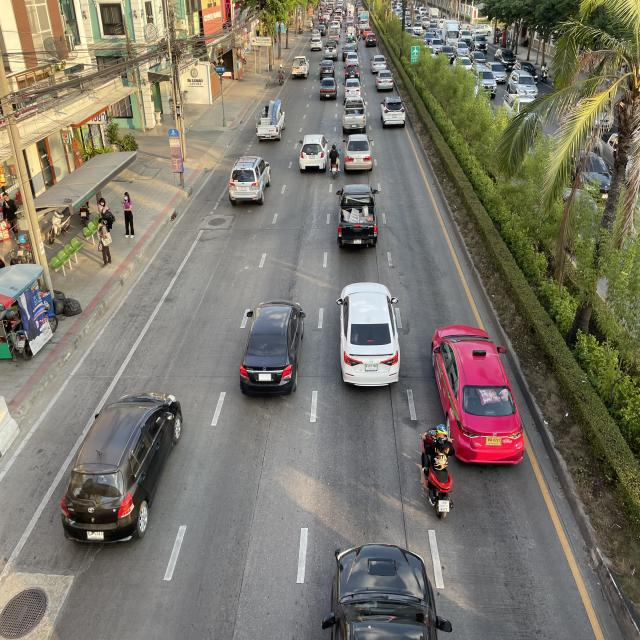bike: (416, 419, 456, 523), (328, 141, 342, 181), (278, 64, 285, 86)
car: (59, 390, 184, 546), (430, 319, 527, 470), (316, 535, 453, 640), (238, 296, 308, 398), (335, 283, 401, 389), (336, 183, 380, 249), (228, 154, 272, 208), (342, 132, 374, 174), (255, 99, 286, 142), (298, 134, 329, 174), (342, 96, 368, 134), (380, 96, 406, 129), (342, 77, 362, 102), (319, 77, 338, 101), (375, 69, 394, 92)
truck: (291, 55, 309, 80)
